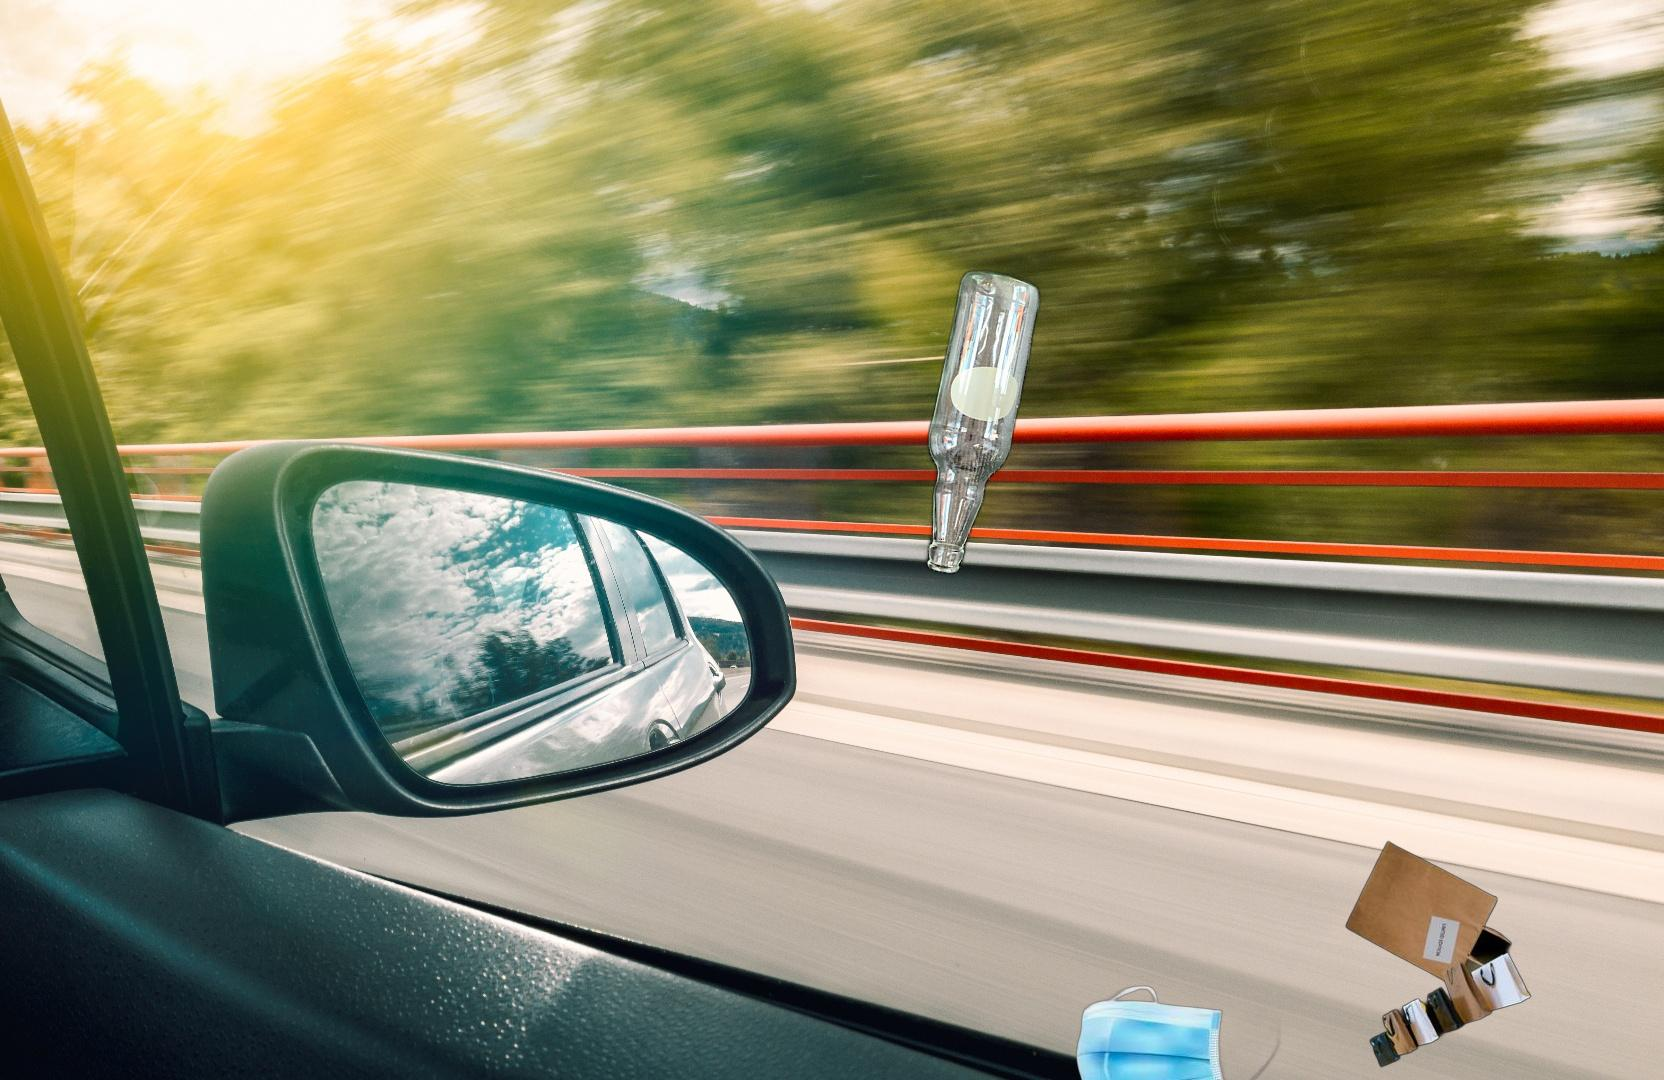glass: (922, 264, 1044, 579)
paper-bag: (1344, 839, 1534, 1070)
trash: (1073, 983, 1283, 1080)
